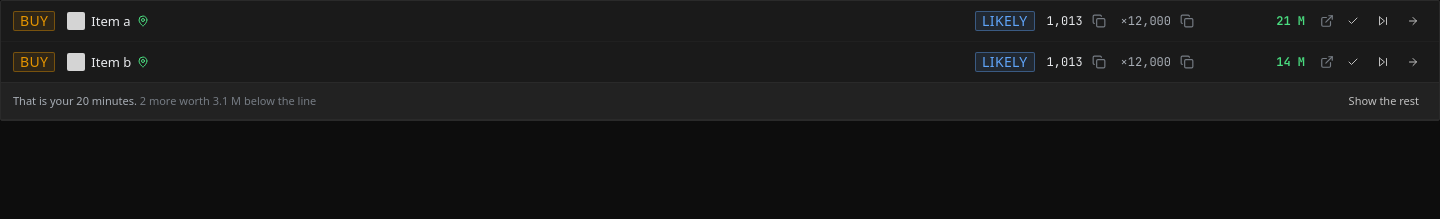
Test: ActionList cut line › reveals the rest on request
The image size is (1440, 219).
Click the button "Show the rest". click: x=1384, y=101
box: x1=1341 y1=89 x2=1427 y2=113
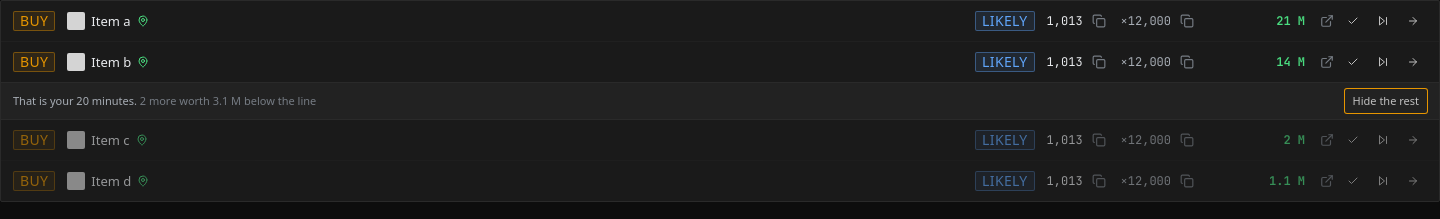
Now the text "Item c" is shown, box x1=91 y1=130 x2=130 y2=150
Now the text "Item d" is shown, box x1=91 y1=171 x2=131 y2=191
